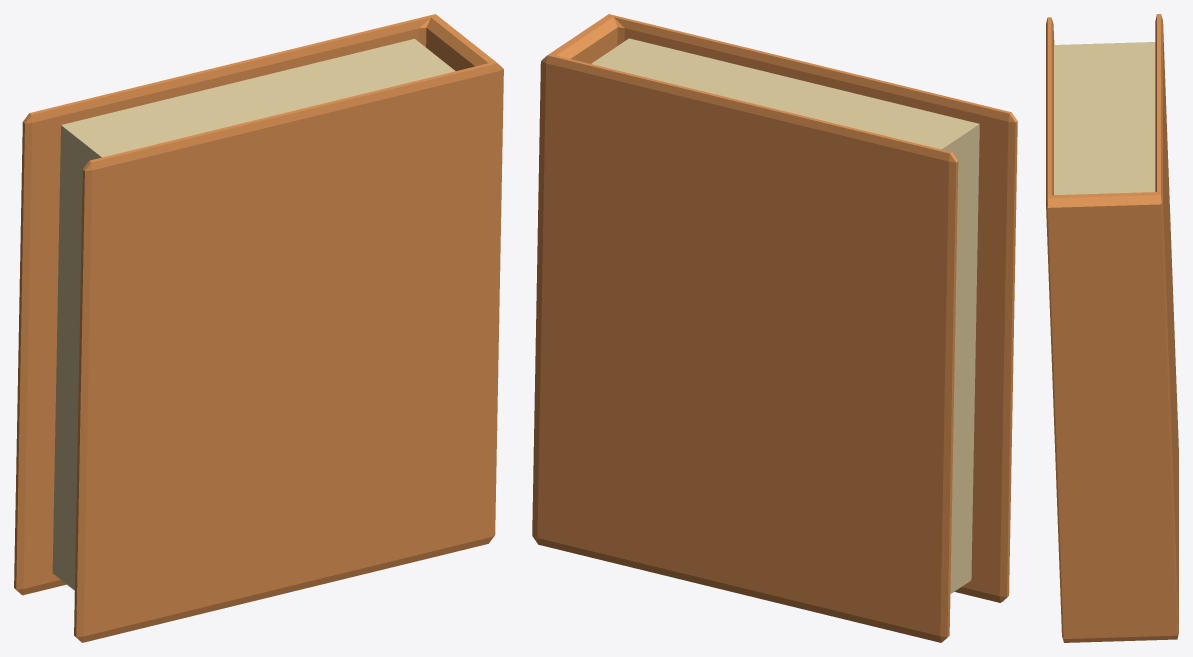
Rendered from Brown_book.fbx.
The picture shows the model from 3 angles, left to right: view 1: azimuth 30°, elevation 25°; view 2: azimuth 150°, elevation 25°; view 3: azimuth 270°, elevation 25°; orthographic projection. The views are drawn at different scales.
Parts seen in each view (by area): view 1: Book.007, Book.008; view 2: Book.007, Book.008; view 3: Book.007, Book.008.
Part boxes in pixels (box(x1,y1,x2,y2)): Book.007: box(14, 14, 503, 642); Book.008: box(52, 38, 455, 590); Book.007: box(532, 14, 1017, 642); Book.008: box(591, 38, 979, 593); Book.007: box(1046, 14, 1178, 642); Book.008: box(1054, 42, 1155, 195).
Size of the model in its own units: 0.4487 by 0.5023 by 0.1351.
